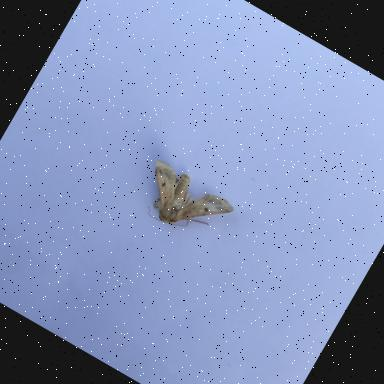abw: (128, 156, 238, 252)
